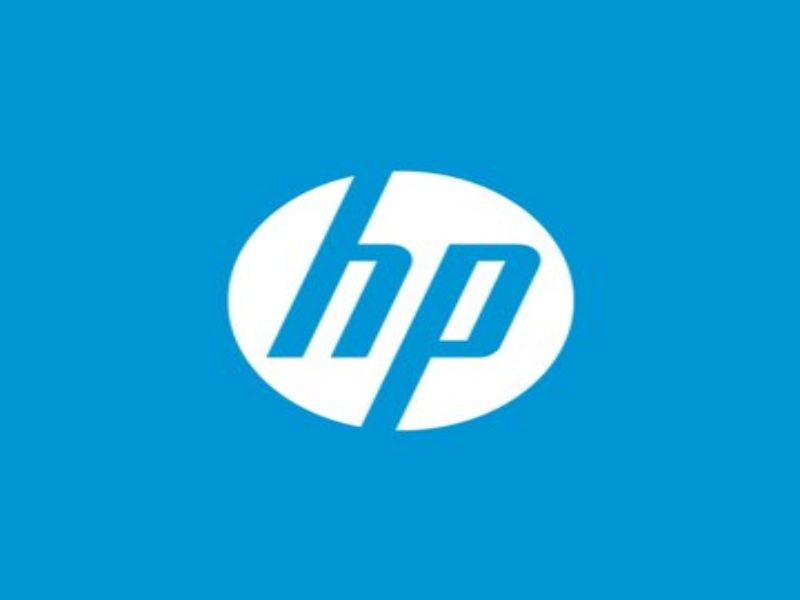hp: (263, 168, 542, 437)
